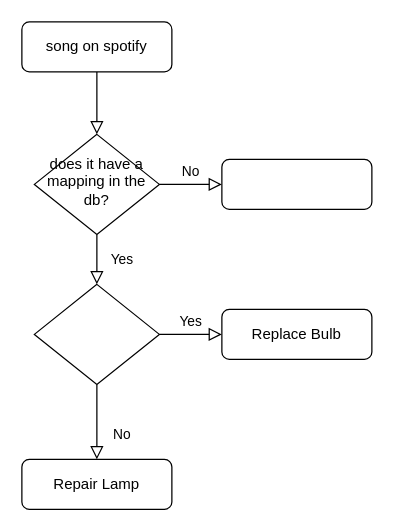
Some shapes in this 394 by 531 pixel diagram are drawn without their labels. Each missing label, with the centre of its shape:
"add to db and try to find the track id in LRClib" goes at point 296,183.
"Bulb burned out?" goes at point 96,333.
